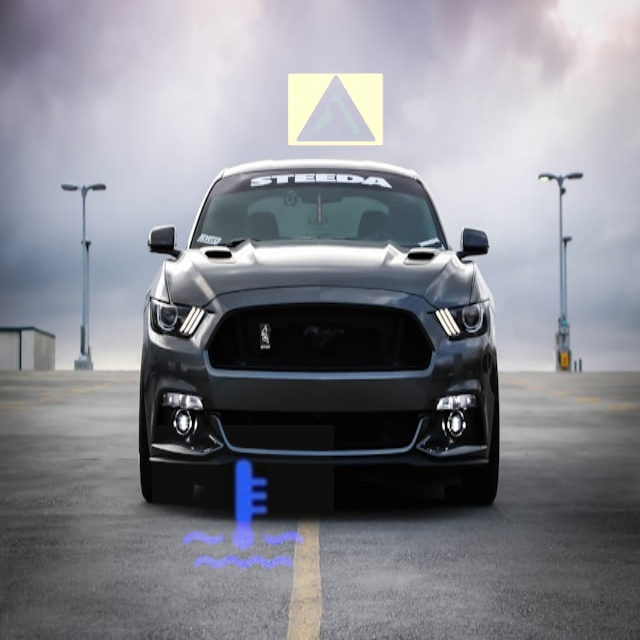symbol: (152, 425, 334, 607), (271, 45, 401, 175)
